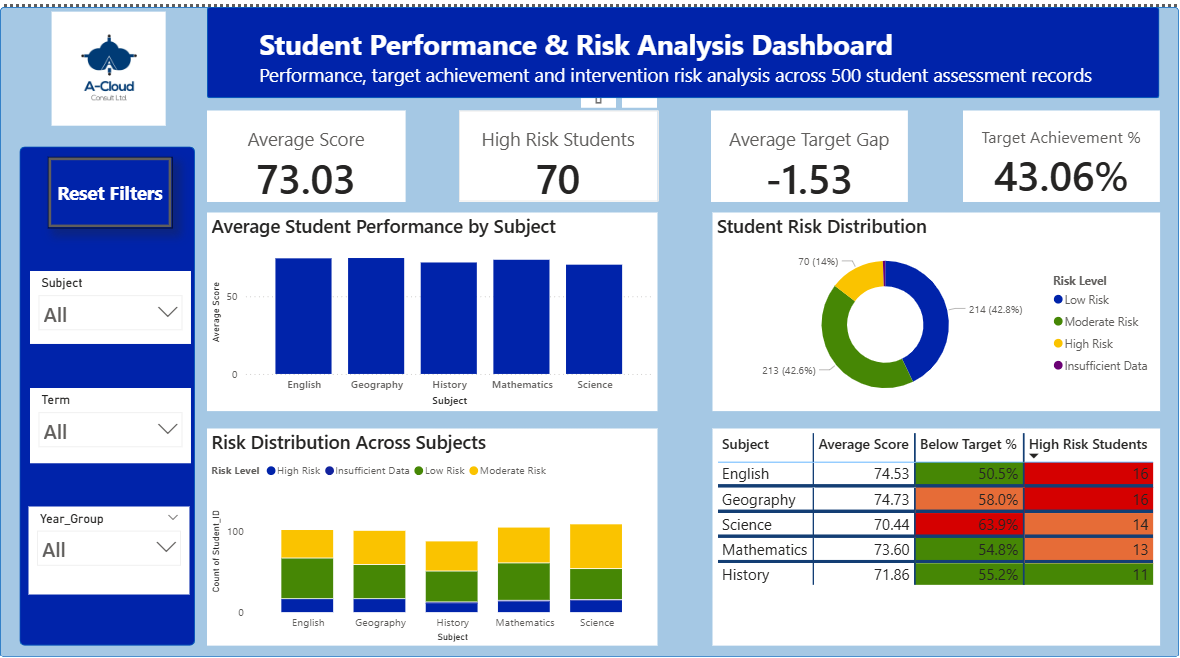

What the dashboard file says about the page in this screenshot:
{"tool":"powerbi","page":{"name":"DASHBOARD","canvas":[1400,800],"ordinal":2},"visuals":[{"type":"shape","box":[0,0,1357.4,749.5],"z":0},{"type":"shape","box":[238.3,0,1096.4,105],"z":1000,"group":"g1"},{"type":"shape","box":[23.2,160.6,202.1,574.7],"z":1000},{"type":"cardVisual","fields":{"Data":["Students_Performance.High Risk Students"]},"box":[1105.3,119.2,229.7,105.3],"z":2000},{"type":"cardVisual","fields":{"Data":["Students_Performance.Average Target Gap"]},"box":[816.7,119.2,226.9,105],"z":3000},{"type":"textbox","box":[293.8,14.9,985.4,89],"z":4000,"group":"g1"},{"type":"cardVisual","fields":{"Data":["Students_Performance.Average Score"]},"box":[238.5,119.2,228.6,105],"z":4000},{"type":"cardVisual","fields":{"Data":["Students_Performance.Target Achievement %"]},"box":[528.7,119.2,226.2,105.3],"z":5000},{"type":"clusteredColumnChart","title":"Average Student Performance by Subject","fields":{"Category":["Students_Performance.Subject"],"Y":["Students_Performance.Average Score"]},"box":[238.5,236.8,518.4,228.6],"z":6000},{"type":"donutChart","title":"Student Risk Distribution","fields":{"Category":["Students_Performance.Risk Level"],"Y":["CountNonNull(Students_Performance.Student_ID)"]},"box":[819.8,236.8,515.1,228.6],"z":7000},{"type":"columnChart","title":"Risk Distribution Across Subjects","fields":{"Category":["Students_Performance.Subject"],"Y":["CountNonNull(Students_Performance.Student_ID)"],"Series":["Students_Performance.Risk Level"]},"box":[238.5,485.3,518.4,250.1],"z":8000},{"type":"group","id":"g1","title":"Group 1","box":[238.3,0,1096.4,105],"z":9000},{"type":"tableEx","fields":{"Values":["Students_Performance.Subject","Students_Performance.Average Score","Students_Performance.Below Target %","Students_Performance.High Risk Students"]},"box":[819.8,485.3,515.1,250.1],"z":10000},{"type":"slicer","fields":{"Values":["Students_Performance.Subject"]},"box":[33.7,304.6,185.4,84.3],"z":11000},{"type":"slicer","fields":{"Values":["Students_Performance.Term"]},"box":[33.7,438.6,185.4,86.4],"z":12000},{"type":"slicer","fields":{"Values":["Students_Performance.Year_Group"]},"box":[33.6,574.7,185.5,101],"z":13000},{"type":"image","box":[20.7,0,209,141.6],"z":14000},{"type":"actionButton","box":[54.7,172.7,143.2,82.1],"z":14001}]}

Visuals, with their boxes in screenshot pixels (x1, y1, x2, y2), scaled from the page's 1400x800 canvas onto the 1180x658 screenshot:
shape: box=[0, 0, 1144, 616]
shape: box=[201, 0, 1125, 86]
shape: box=[20, 132, 190, 605]
cardVisual - Students_Performance.High Risk Students: box=[932, 98, 1125, 185]
cardVisual - Students_Performance.Average Target Gap: box=[688, 98, 880, 184]
textbox: box=[248, 12, 1078, 85]
cardVisual - Students_Performance.Average Score: box=[201, 98, 394, 184]
cardVisual - Students_Performance.Target Achievement %: box=[446, 98, 636, 185]
"Average Student Performance by Subject" clusteredColumnChart: box=[201, 195, 638, 383]
"Student Risk Distribution" donutChart: box=[691, 195, 1125, 383]
"Risk Distribution Across Subjects" columnChart: box=[201, 399, 638, 605]
"Group 1" group: box=[201, 0, 1125, 86]
tableEx - Students_Performance.Subject x Students_Performance.Average Score: box=[691, 399, 1125, 605]
slicer - Students_Performance.Subject: box=[28, 251, 185, 320]
slicer - Students_Performance.Term: box=[28, 361, 185, 432]
slicer - Students_Performance.Year_Group: box=[28, 473, 185, 556]
image: box=[17, 0, 194, 116]
actionButton: box=[46, 142, 167, 210]
